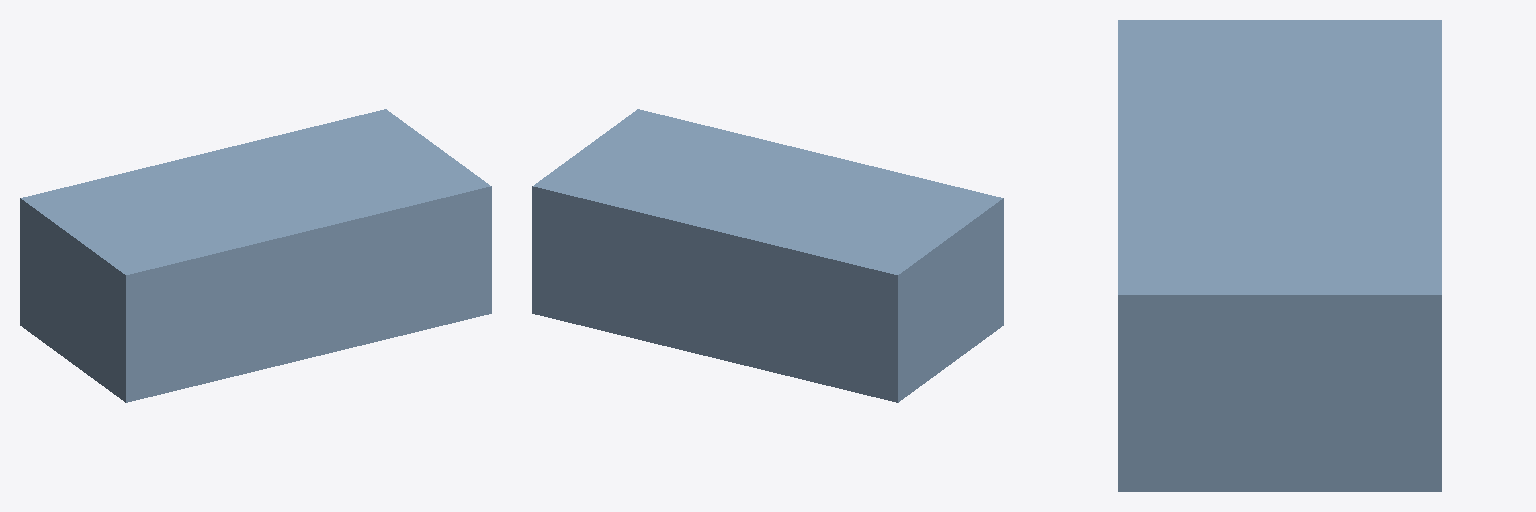
robot.urdf — simplecar:
<?xml version="1.0"?> 
<robot name="simplecar">
    <!-- Colors --> 
    <material name="black"> 
        <color rgba="0 0 0 1"/>
    </material>
    <material name="blue"> 
        <color rgba="0.6 0.7 0.8 1"/>
    </material>


    <!-- Base Frame of Car --> 
    <link name="base_link">
        <visual> 
            <geometry> 
                <box size="0.3 0.15 0.1"/>
            </geometry>
            <material name="blue"/>
        </visual>
      <collision>
        <geometry>
          <box size=".5 0.3 0.1"/>
        </geometry>
      </collision>
        <inertial> 
            <mass value="6"/>
            <inertia ixx="0.2" ixy="0" ixz="0" iyy="0.2" iyz="0.0" izz="0.2"/>
        </inertial> 
    </link> 
    
</robot>

--- What the picture shows (computed from the rendered views, not written in the file) ---
3 views of the same robot in one strip: view 1: azimuth 30°, elevation 25°; view 2: azimuth 150°, elevation 25°; view 3: azimuth 270°, elevation 25° (orthographic).
Model simplecar with 1 links and 0 joints (none), rooted at base_link, posed every joint at zero.
Visible links, largest first — view 1: base_link; view 2: base_link; view 3: base_link.
Link boxes in pixels (x1,y1,x2,y2): base_link: (20, 109, 491, 402); base_link: (532, 109, 1003, 402); base_link: (1118, 20, 1441, 491).
Bounding box of the posed robot: 0.3 × 0.15 × 0.1 m (x, y, z).
Geometry: primitives only (box / cylinder / sphere), no mesh files.